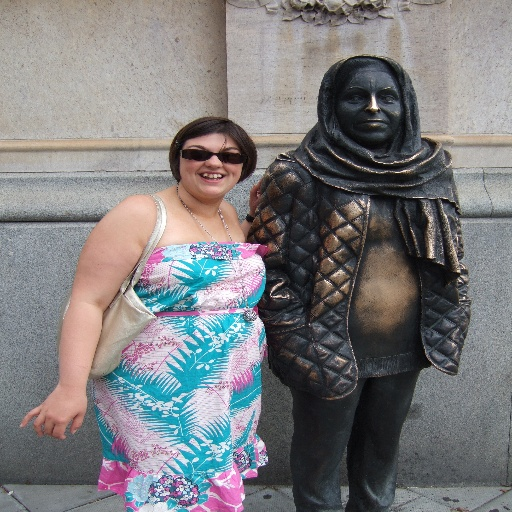hand: (26, 382, 77, 444)
